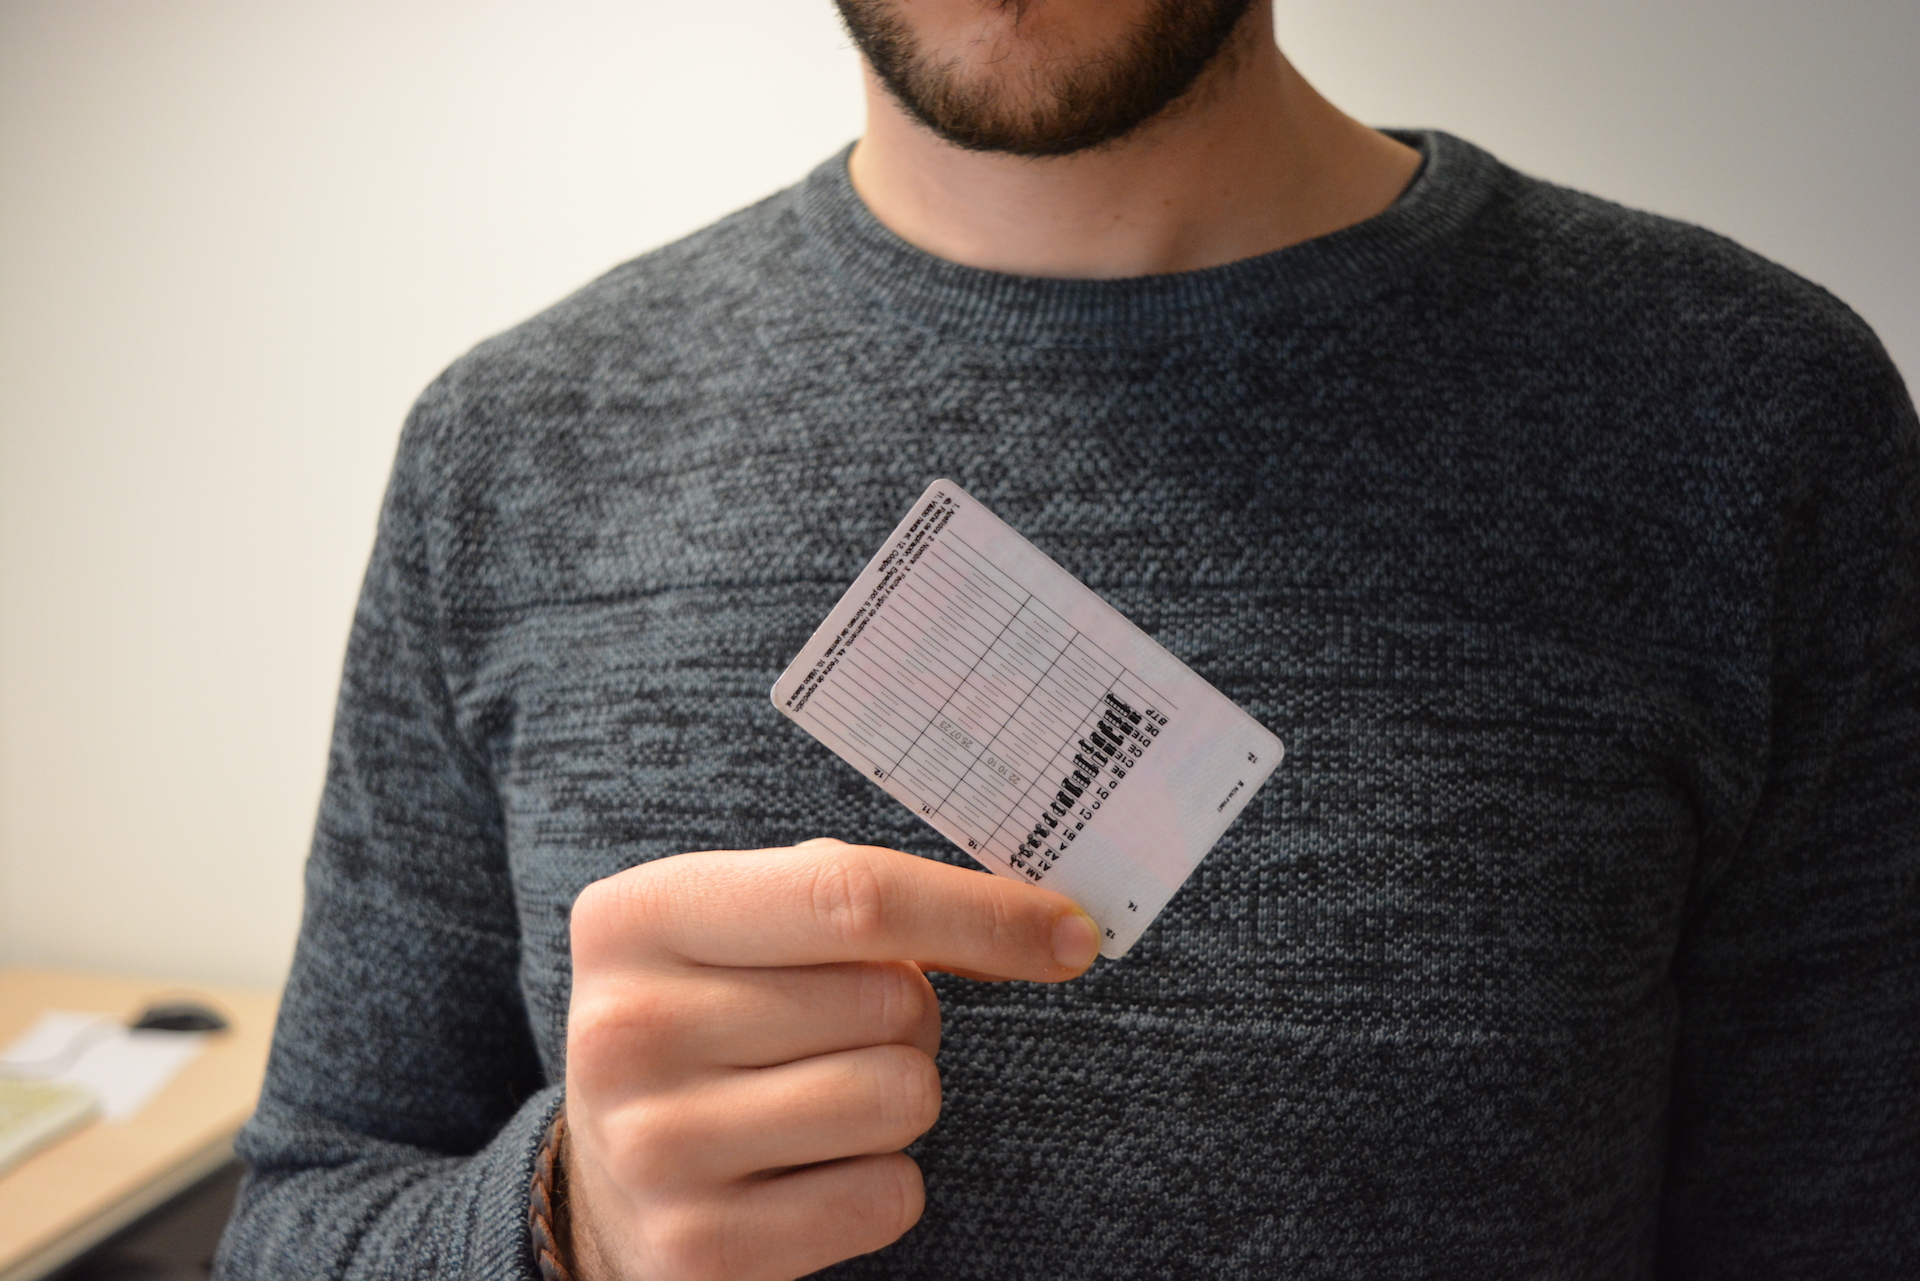tarjeta: (768, 475, 1290, 961)
